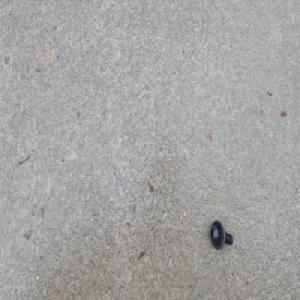BoltWasher: (209, 218, 233, 250)
